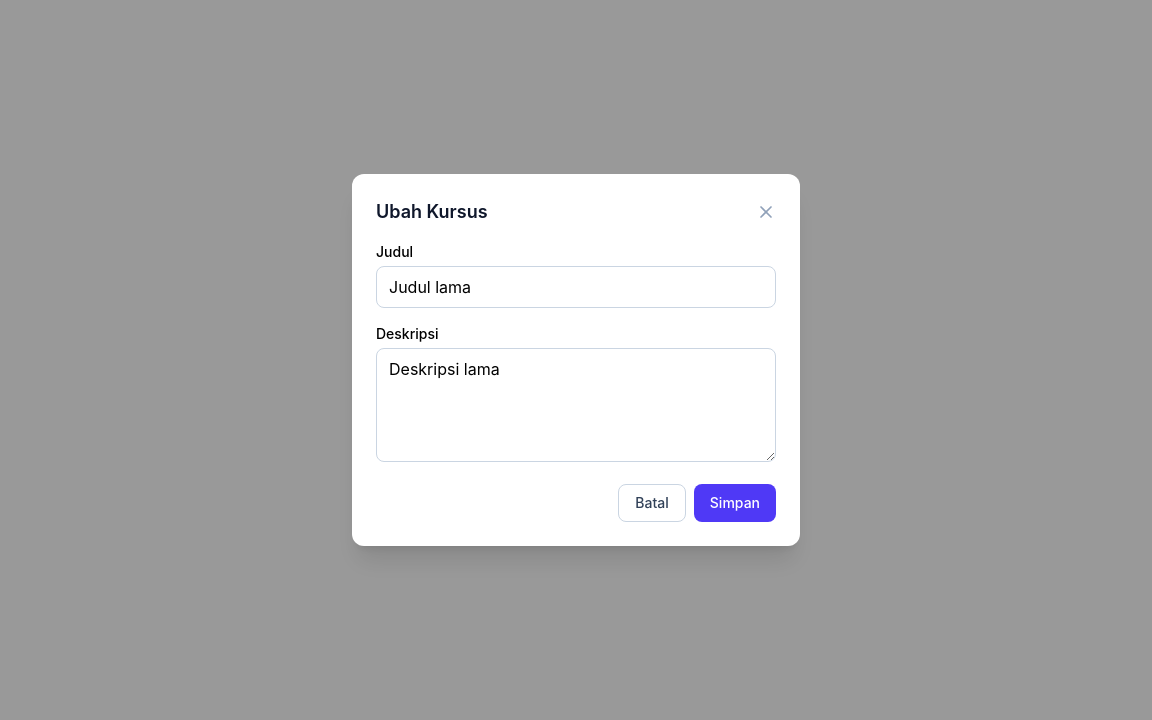
Test case: ChangeModal › menampilkan error dan tetap terbuka jika gagal
The width and height of the screenshot is (1152, 720).
What coordinates should you click on to do the following:
click the button "Simpan"
I would click on:
 (735, 503)
Its box is left=694, top=484, right=776, bottom=522.
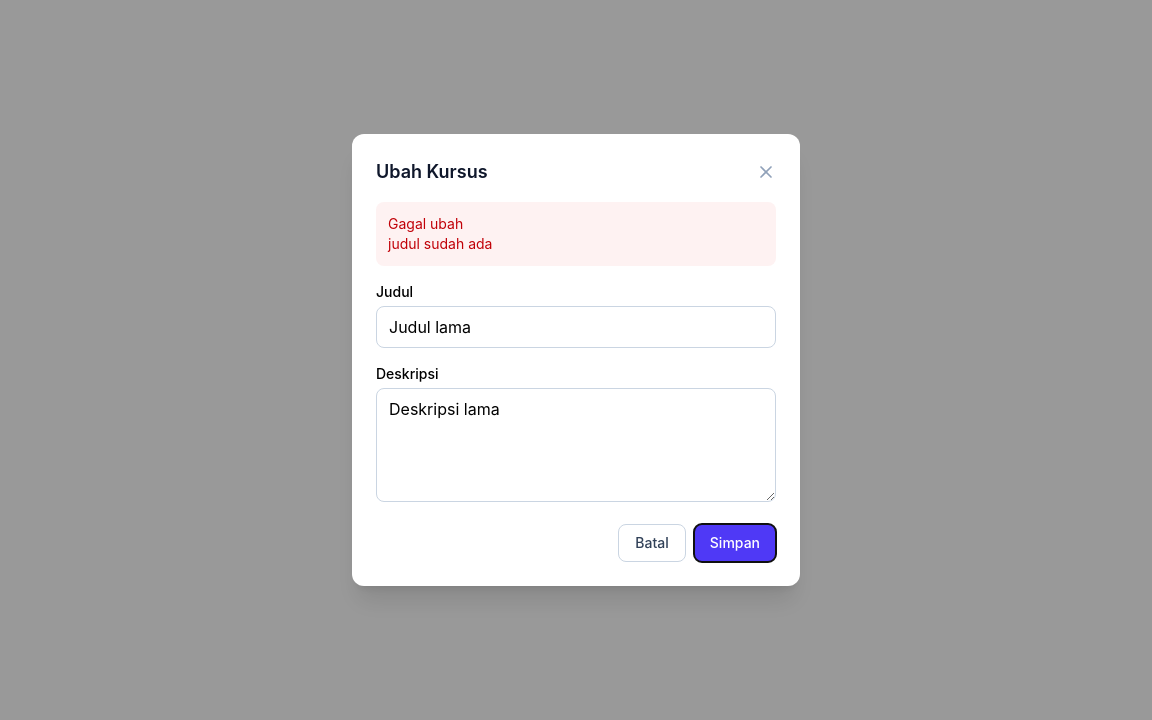
Now the text "Gagal ubah" is shown, box left=388, top=215, right=463, bottom=232
Now the text "judul sudah ada" is shown, box left=388, top=235, right=492, bottom=252
